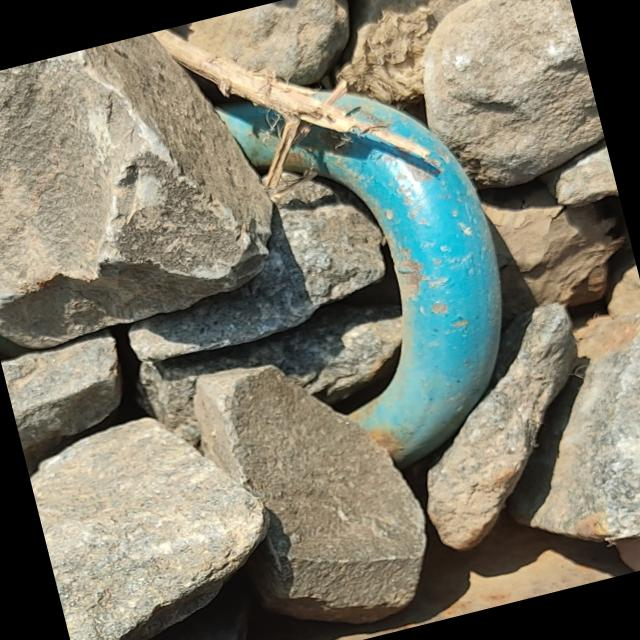track_bolt: (212, 49, 548, 492)
